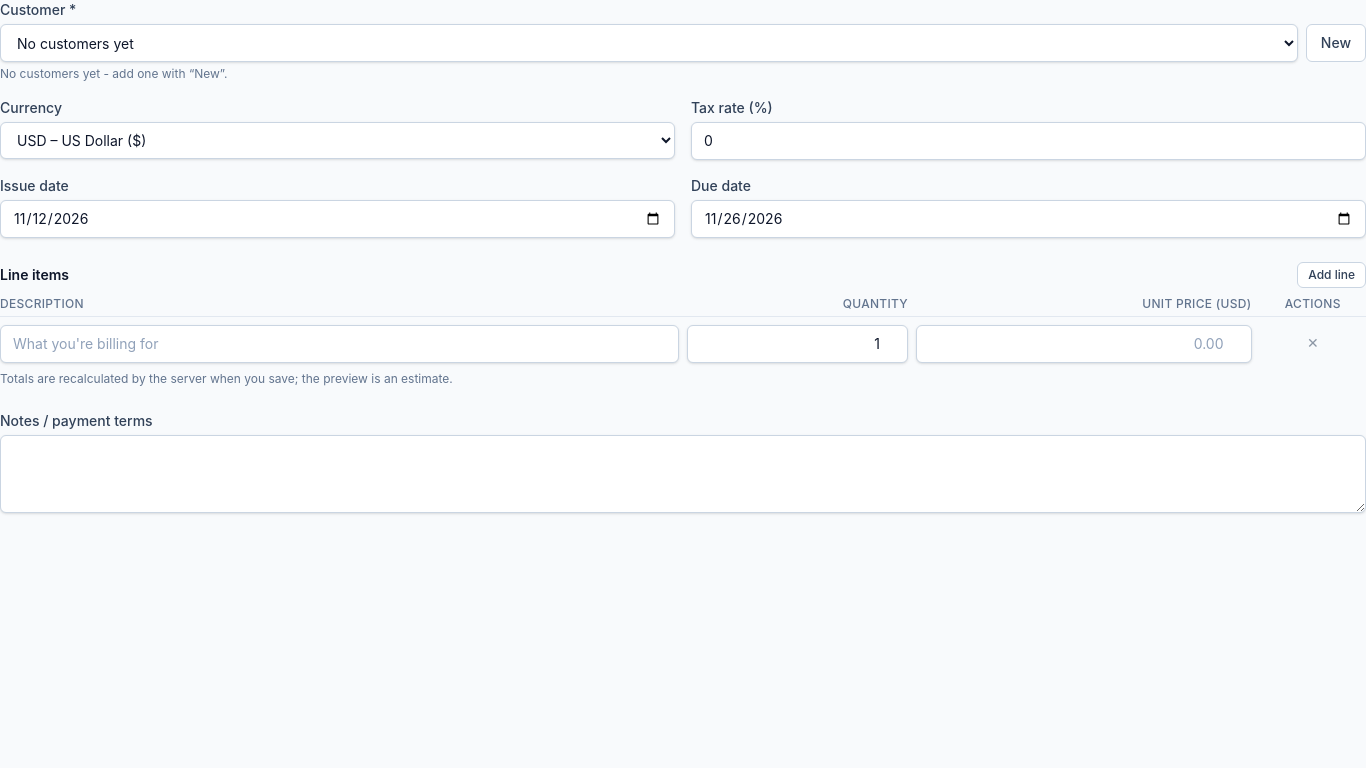
Test case: InvoiceEditor › renders the New customer dialog outside the invoice form, so forms are never nested
This screenshot has width=1366, height=768.
Check: the text "No customers yet - add one with “New”." is shown, box [0, 66, 227, 81]
Click the button "New". click: (1336, 43)
box: [1306, 24, 1365, 62]
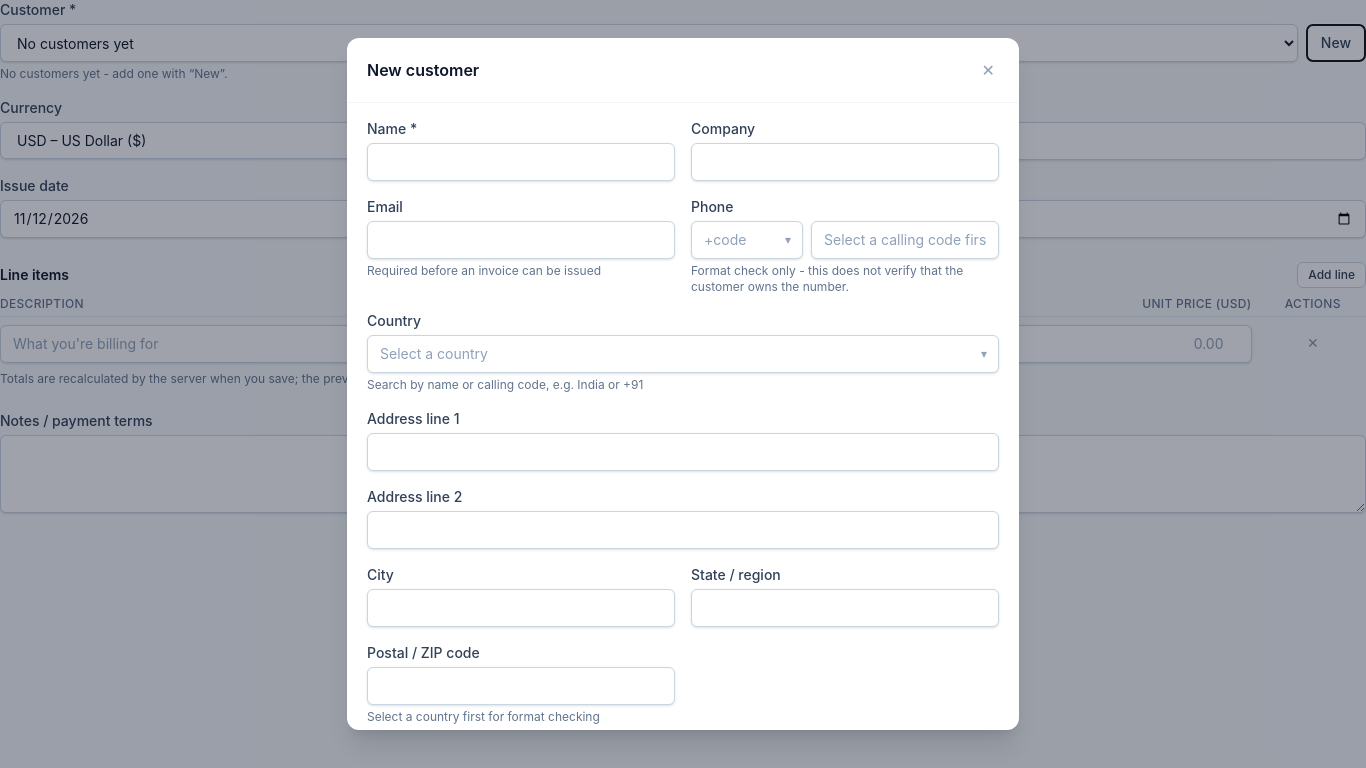
Check: the field labelled "Name *" is shown, box [367, 143, 675, 181]
